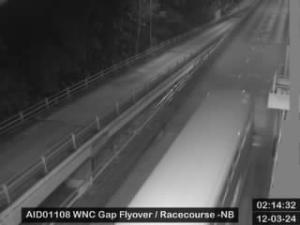bus: (116, 90, 258, 225)
